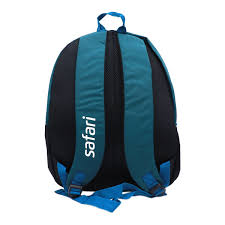backpack: (44, 11, 181, 205)
